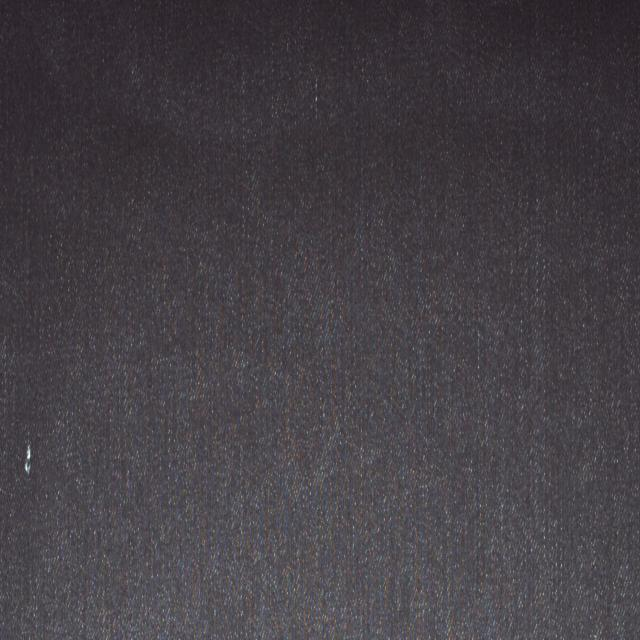Knot: (22, 442, 32, 478)
